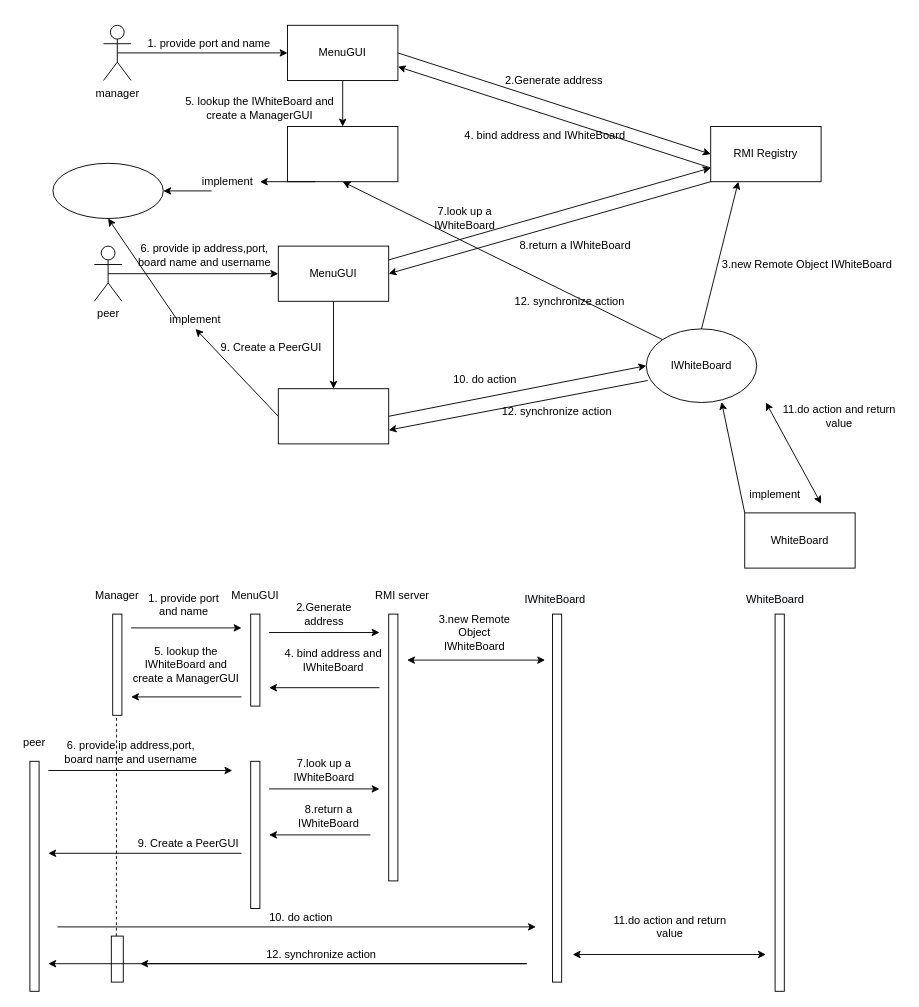
This 919x1007 diagram has some shape labels left out. Each missing label, with the centre of its shape:
IClient: [107,190]
ManagerGUI: [342,154]
PeerGUI: [333,416]
